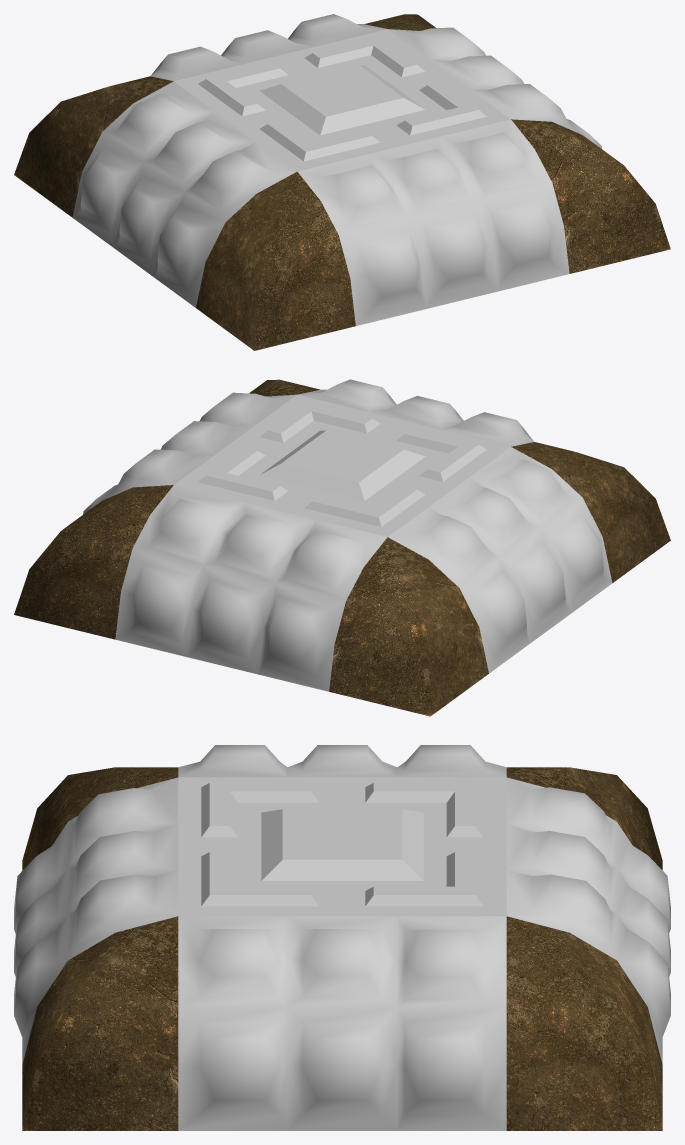
Rendered from DG_Ceiling_6x6_VaultB.FBX.
The picture shows the model from 3 angles, top to bottom: view 1: azimuth 30°, elevation 25°; view 2: azimuth 150°, elevation 25°; view 3: azimuth 270°, elevation 25°; orthographic projection. The views are drawn at different scales.
Visible parts, largest first — view 1: DG_Ceiling_6x6_VaultB; view 2: DG_Ceiling_6x6_VaultB; view 3: DG_Ceiling_6x6_VaultB.
Part boxes in pixels (box(x1,y1,x2,y2)): DG_Ceiling_6x6_VaultB: box(14, 14, 670, 350); DG_Ceiling_6x6_VaultB: box(14, 379, 670, 716); DG_Ceiling_6x6_VaultB: box(14, 745, 670, 1130).
Bounding box in the file's own units: 600 × 163 × 600.
